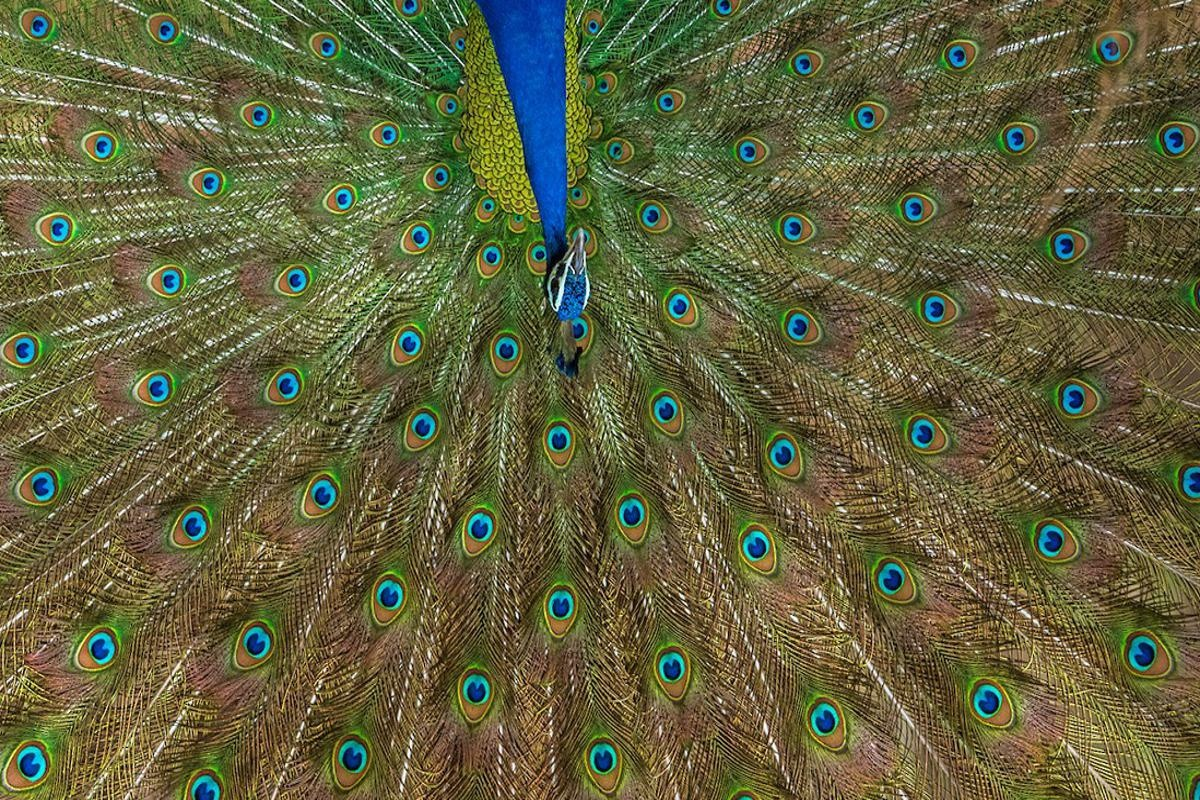peacock: (11, 1, 1200, 800)
